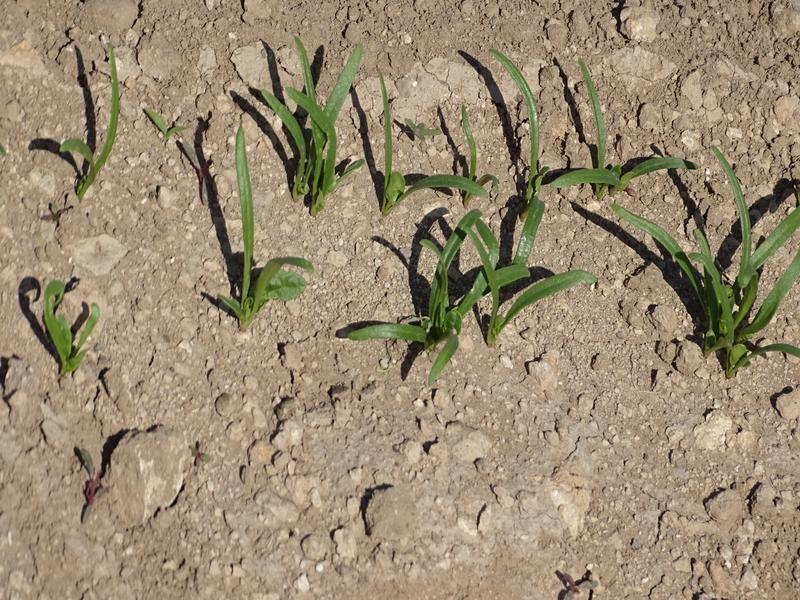Espinaca: (359, 199, 593, 365), (650, 144, 795, 365), (507, 59, 681, 192), (267, 44, 368, 208), (228, 128, 297, 323), (378, 84, 489, 200), (59, 47, 123, 195), (38, 271, 106, 375)
